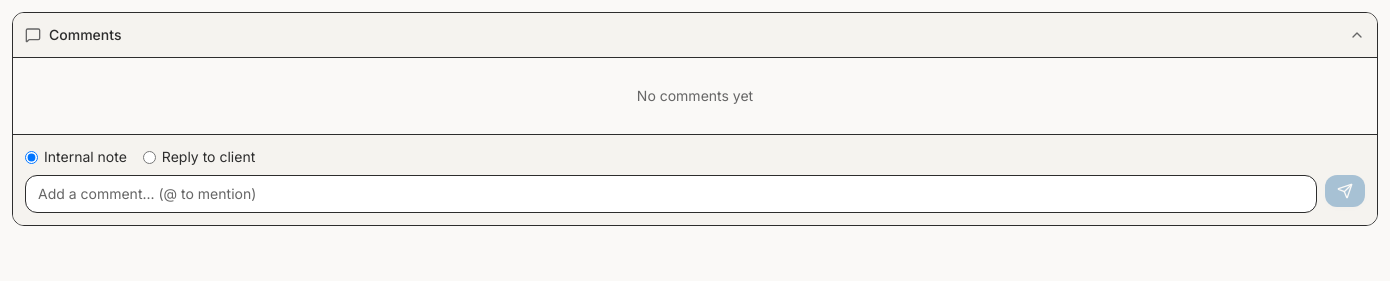
Scenario: Reply to client email hint › says the reply is also emailed in about two minutes when the client is away
The width and height of the screenshot is (1390, 281).
Click the radio button labelled "Reply to client" at (149, 157), box [143,150,156,164]
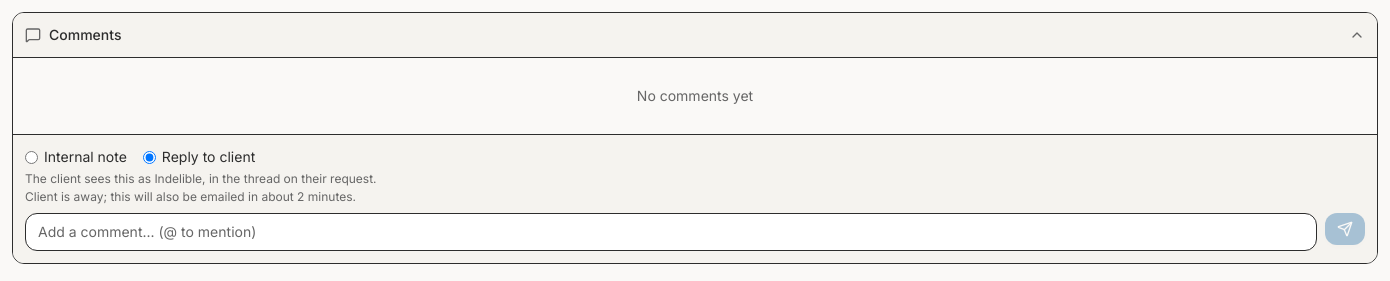
expect the text with test id "client-email-hint" reads "Client is away; this will also be emailed in about 2 minutes.": met, box [25,189,356,204]
